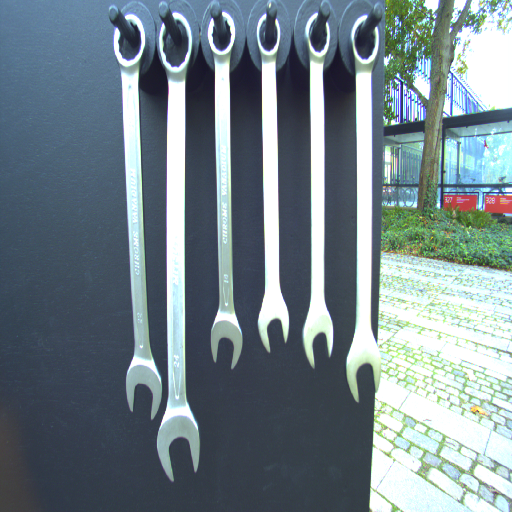bottom: (155, 406, 203, 486), (123, 350, 165, 423), (343, 336, 383, 404), (207, 309, 246, 370), (300, 309, 336, 370), (256, 295, 291, 356)
top: (157, 11, 196, 75), (347, 11, 381, 72), (111, 16, 149, 70), (204, 10, 238, 62), (253, 11, 286, 63), (302, 10, 332, 64)
